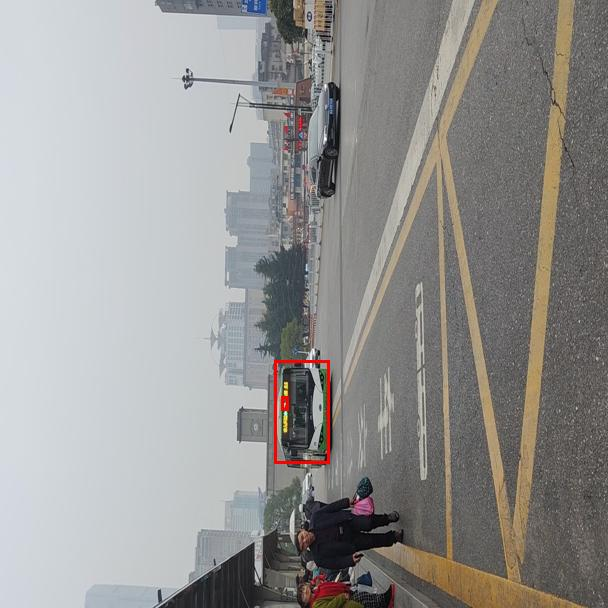bus: (274, 360, 329, 463)
screen: (281, 396, 288, 410)
